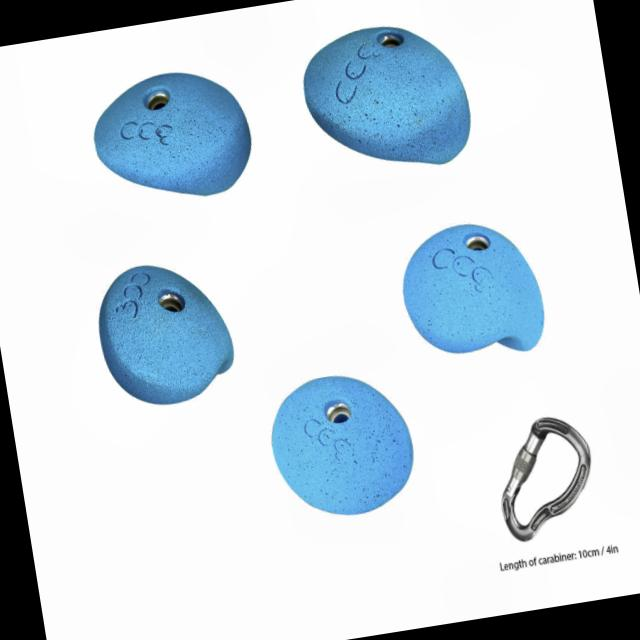Hold: (293, 8, 477, 184), (83, 58, 270, 220), (258, 366, 430, 528), (89, 254, 256, 418), (398, 210, 554, 360)
